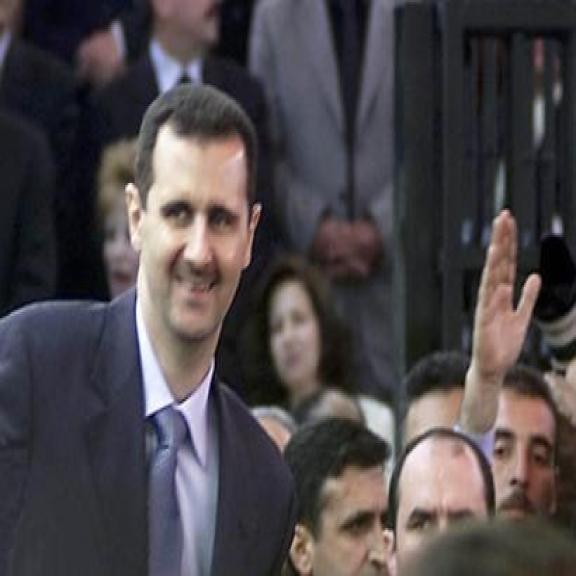face: (122, 112, 260, 340), (396, 445, 502, 576), (290, 448, 392, 576), (492, 376, 566, 532), (269, 286, 329, 392), (104, 190, 151, 310)
